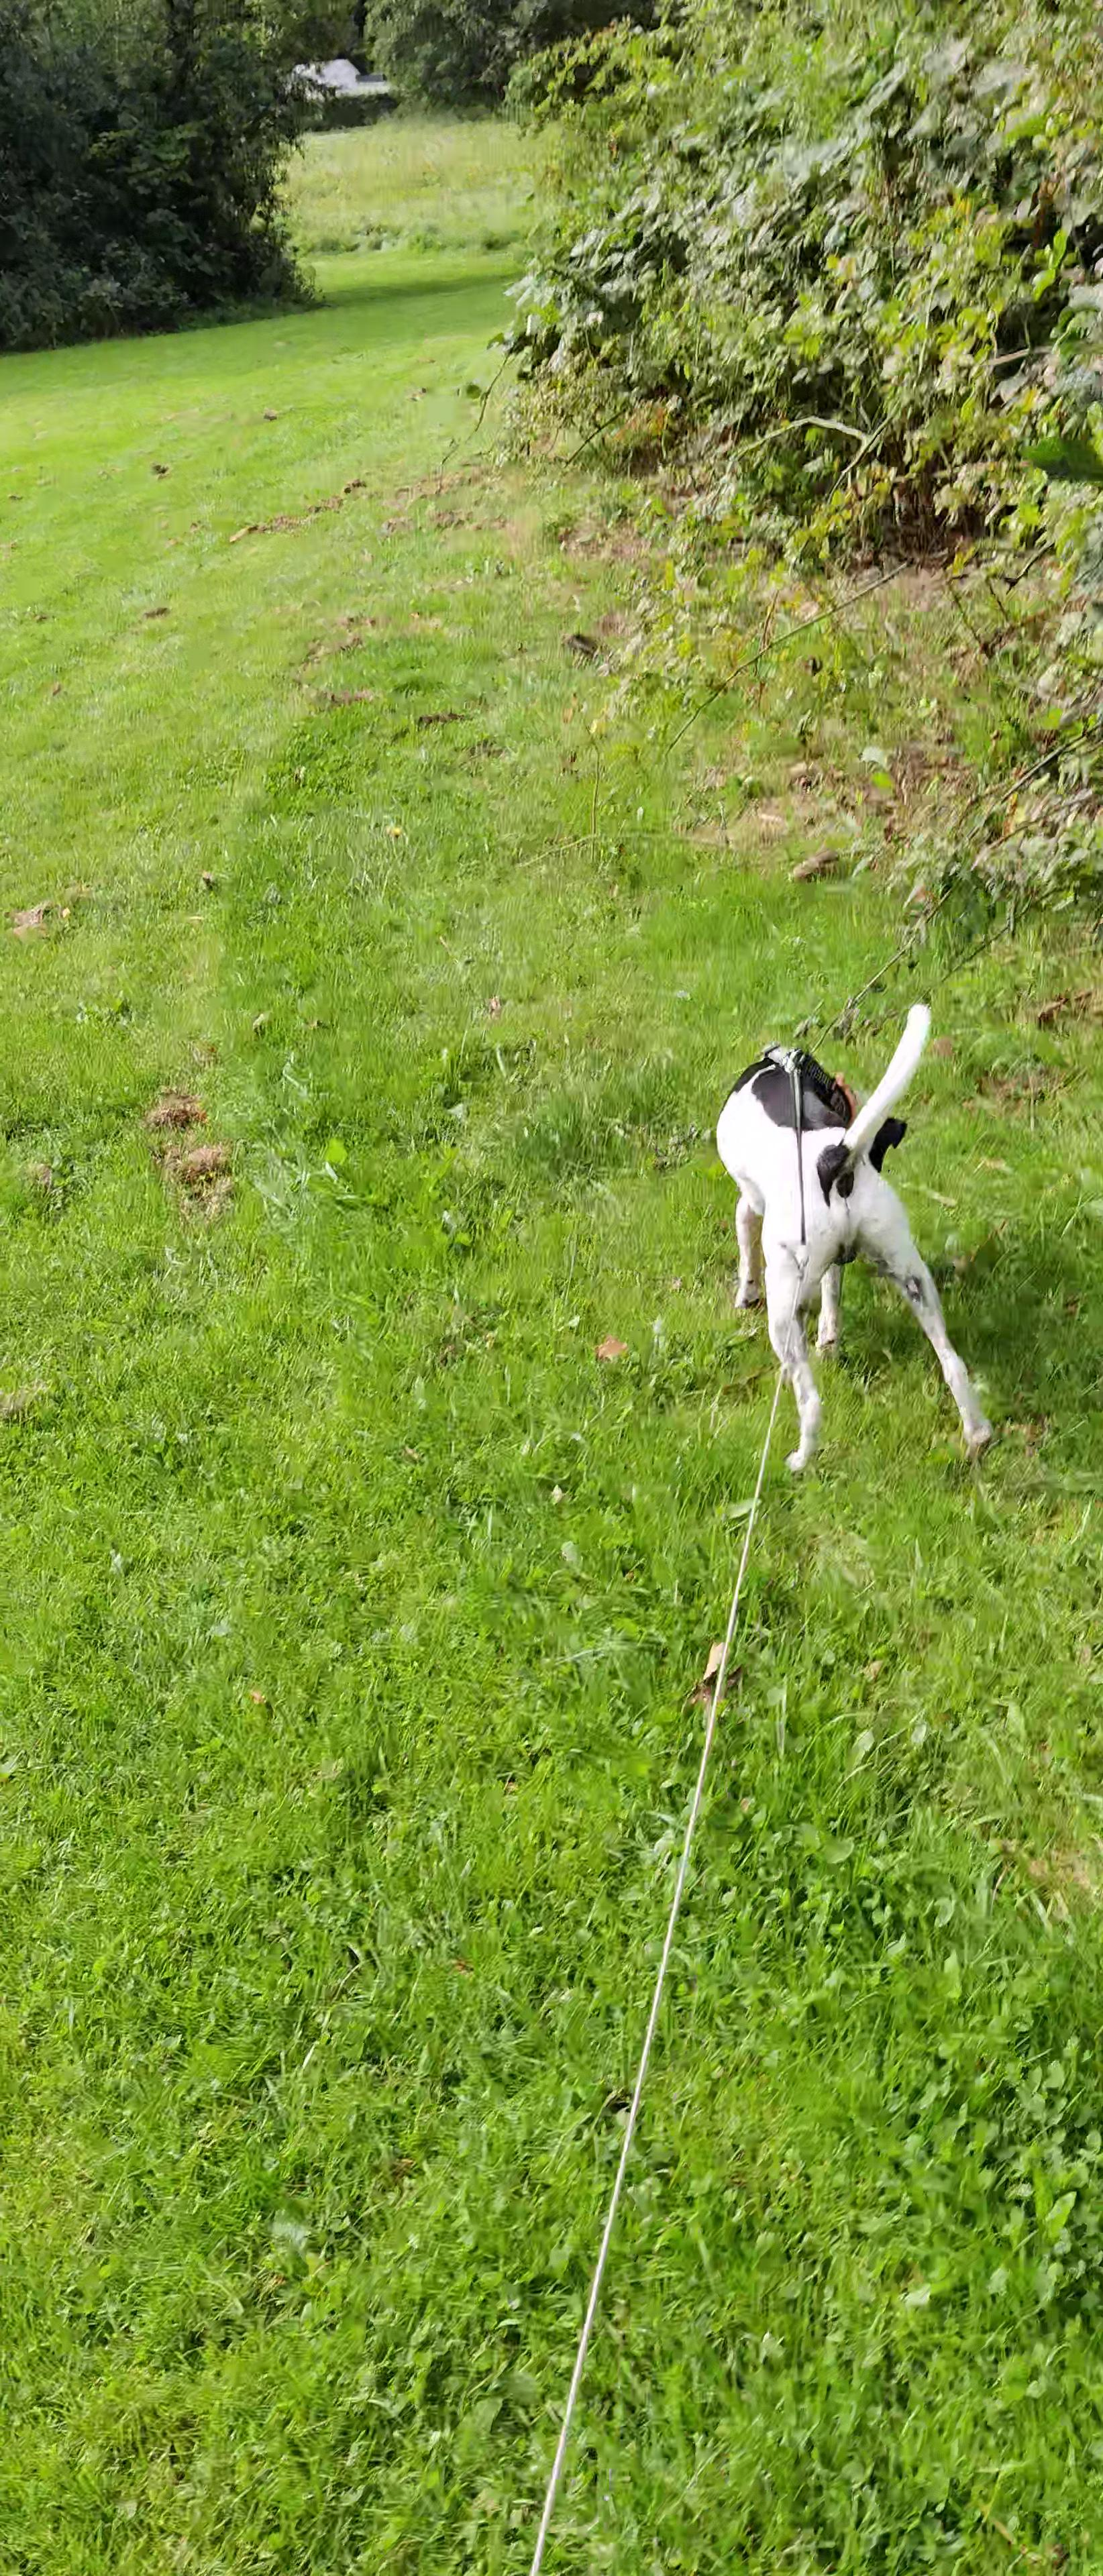Dog: (705, 1002, 1006, 1472)
